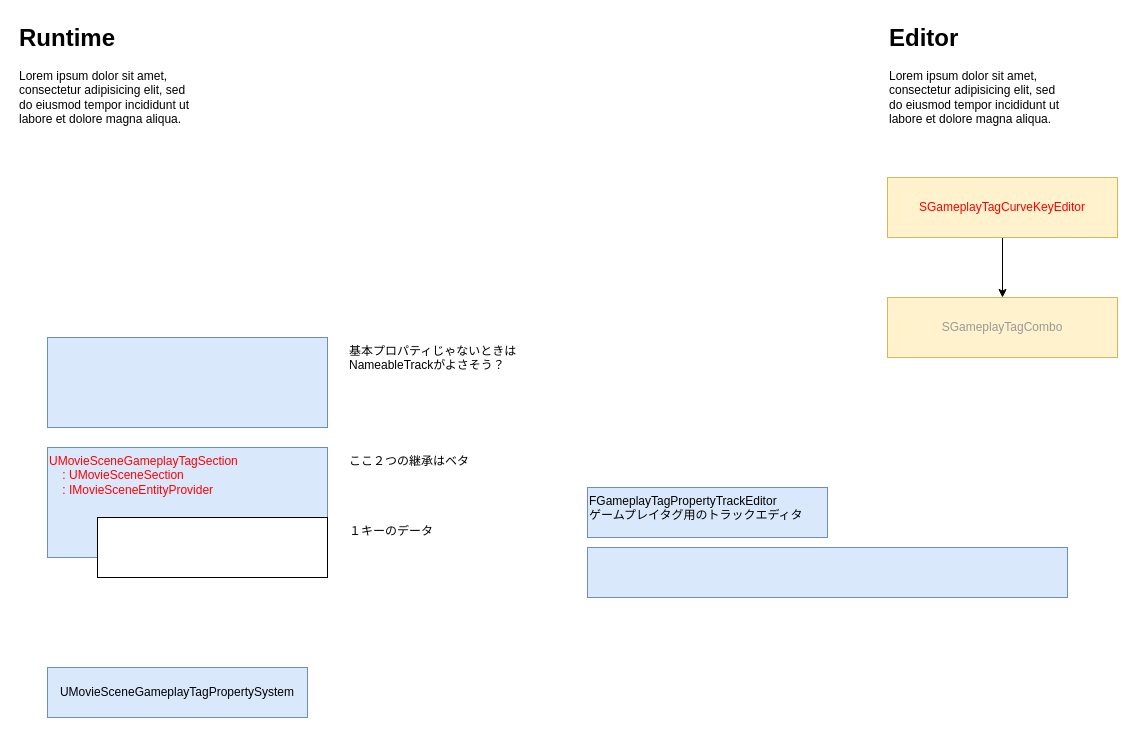
The diagram is 1135 pixels wide and 735 high, and some of its shapes have lost their labels. The shapes that lost their labels are listed below. From the top down, each one's centre as x and y in pixels, then its label:
At point 187,382: "UMovieSceneGameplayTagTrack : UMovieSceneNameableTrack".
At point 212,547: "MovieSceneGameplayTagChannel".
At point 827,572: "SequencerModule.RegisterChannelInterface<FMovie SceneGameplayTagChannel>();".
